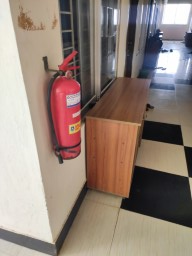fire_extinguisher: (38, 146, 123, 199)
